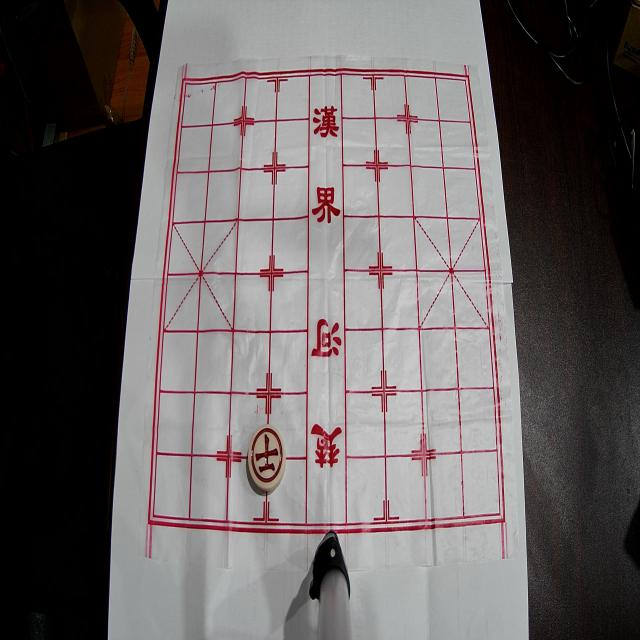red-guard: (248, 424, 286, 492)
